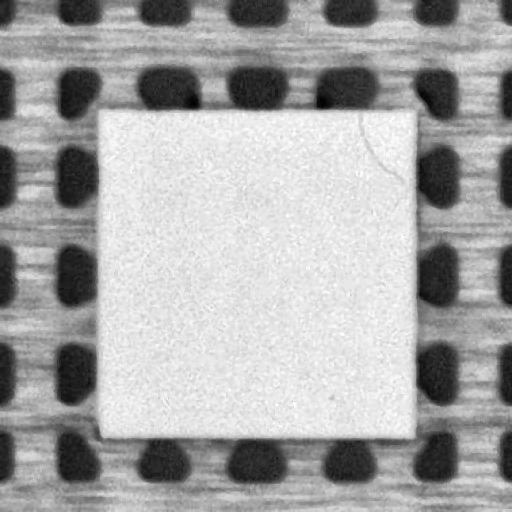DIE_CRACK: (356, 113, 402, 186)
